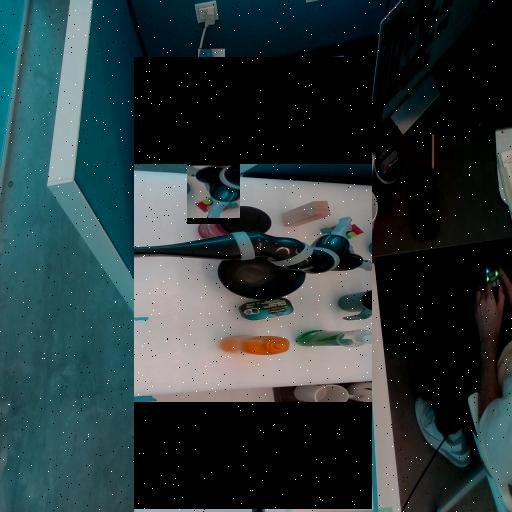bowl: (218, 233, 268, 318)
cleanser: (299, 193, 316, 209)
coffee_can: (175, 283, 214, 322)
jaco: (187, 166, 240, 219)
meat_can: (267, 244, 289, 298)
mug: (259, 143, 289, 199)
mustard_bottle: (306, 249, 324, 317)
rubik: (190, 174, 212, 217)
soup_can: (291, 78, 308, 133)
tennis_ball: (221, 195, 238, 212)
windex: (198, 49, 225, 167)
wooden_block: (171, 208, 195, 254)
workspace: (134, 171, 372, 399)
